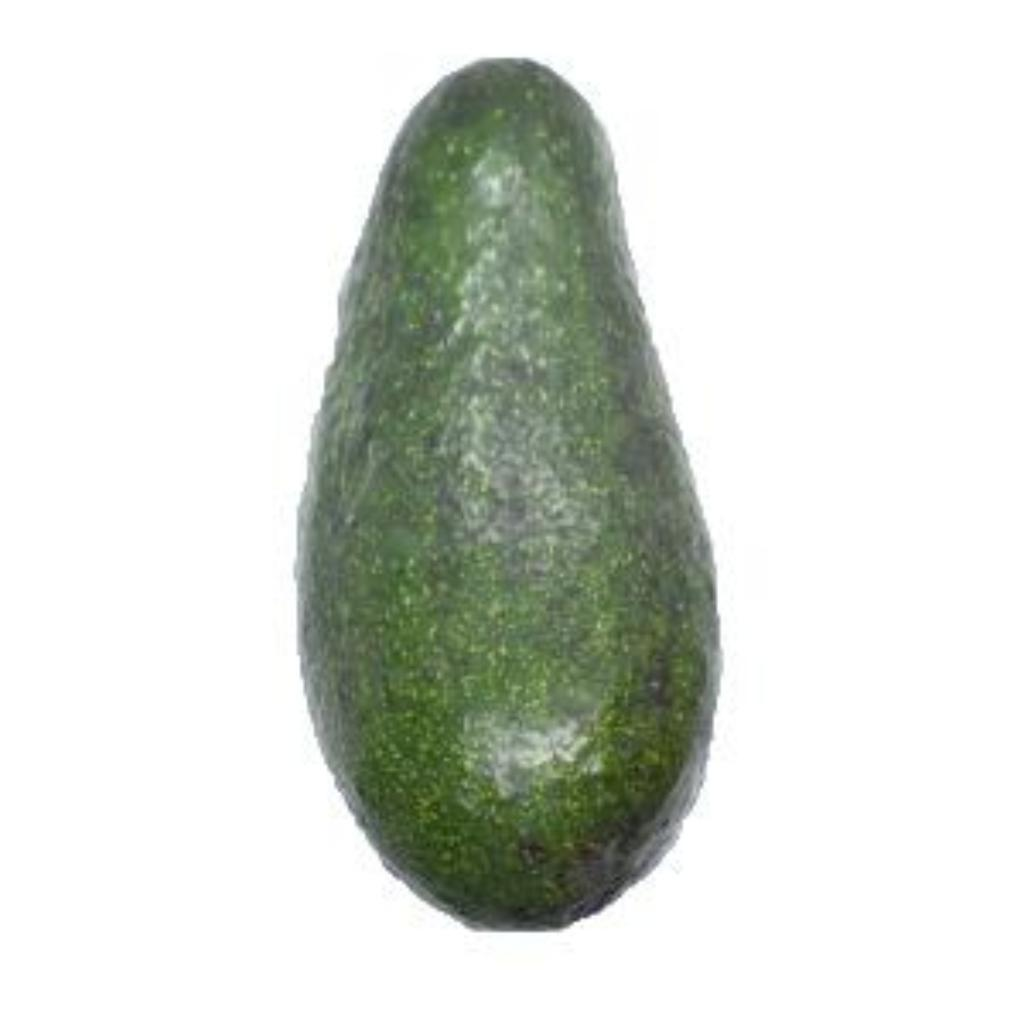cercospora_spot: (276, 38, 812, 956)
